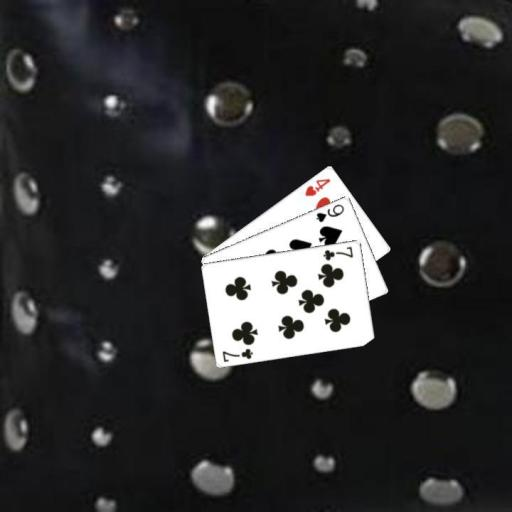4H: (302, 175, 332, 198)
7C: (320, 243, 355, 262), (219, 345, 255, 363)
9S: (313, 201, 345, 224)
